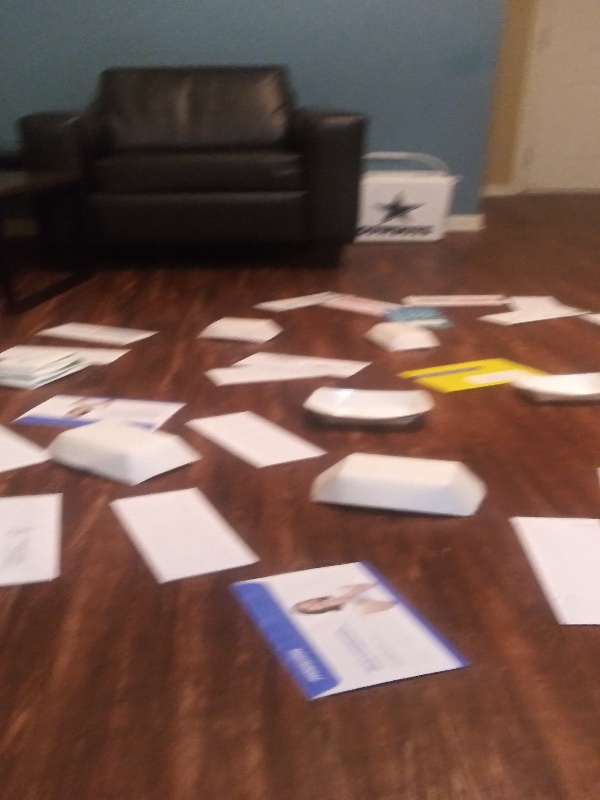plate: (301, 449, 494, 525), (41, 416, 207, 490), (300, 383, 439, 432), (1, 343, 90, 397), (509, 365, 600, 407), (362, 316, 445, 357), (196, 315, 288, 349)
